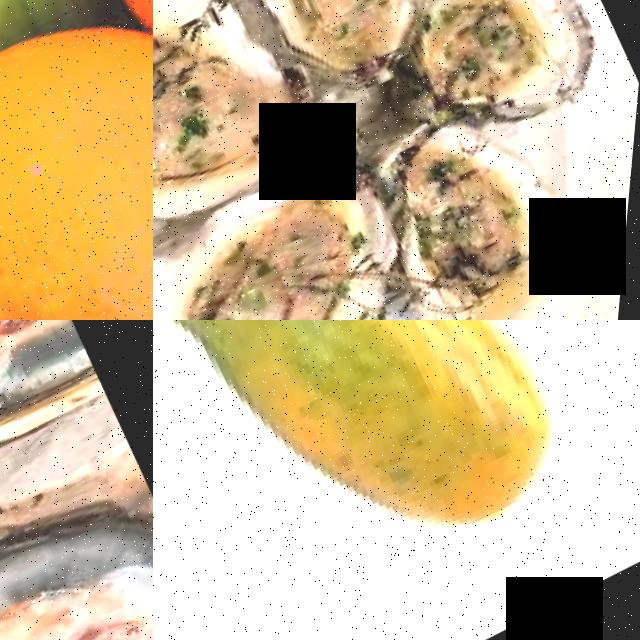orange: (0, 0, 153, 320), (44, 0, 153, 142)
oysters: (153, 166, 418, 320), (153, 0, 306, 226), (0, 320, 115, 539), (0, 491, 153, 640), (269, 0, 424, 43)
pawpaw: (153, 320, 625, 625)
